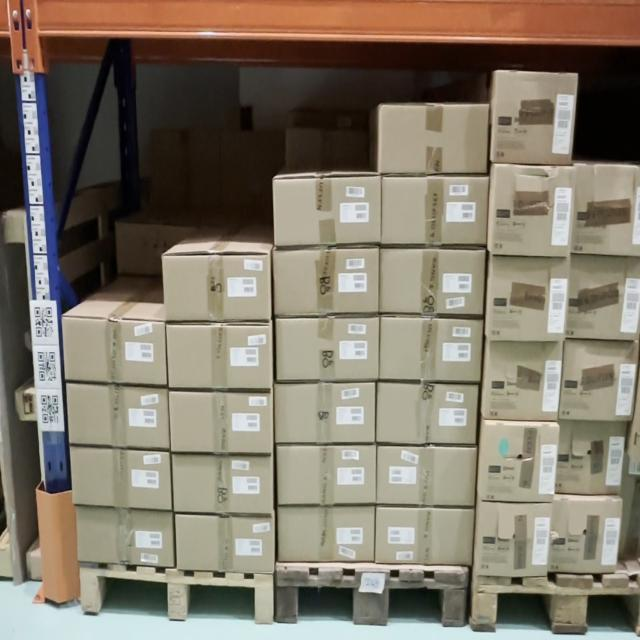box: (165, 254, 270, 320), (382, 107, 485, 174), (275, 250, 379, 316), (383, 178, 487, 243), (65, 318, 165, 382), (559, 341, 639, 421), (566, 254, 640, 340), (488, 258, 566, 339), (493, 169, 570, 251), (275, 180, 380, 240), (500, 70, 570, 160), (381, 252, 484, 313), (172, 391, 271, 454), (277, 319, 377, 381), (170, 326, 270, 387), (69, 386, 169, 447), (381, 320, 482, 380), (572, 165, 640, 254), (548, 498, 623, 574), (275, 385, 373, 442), (279, 447, 375, 505), (376, 388, 475, 443), (378, 449, 474, 505), (376, 511, 475, 565), (556, 421, 627, 494), (178, 516, 273, 570), (175, 458, 272, 510), (487, 344, 558, 414), (477, 504, 548, 574), (482, 428, 554, 496), (279, 510, 374, 561), (74, 453, 169, 504), (78, 514, 173, 560)
